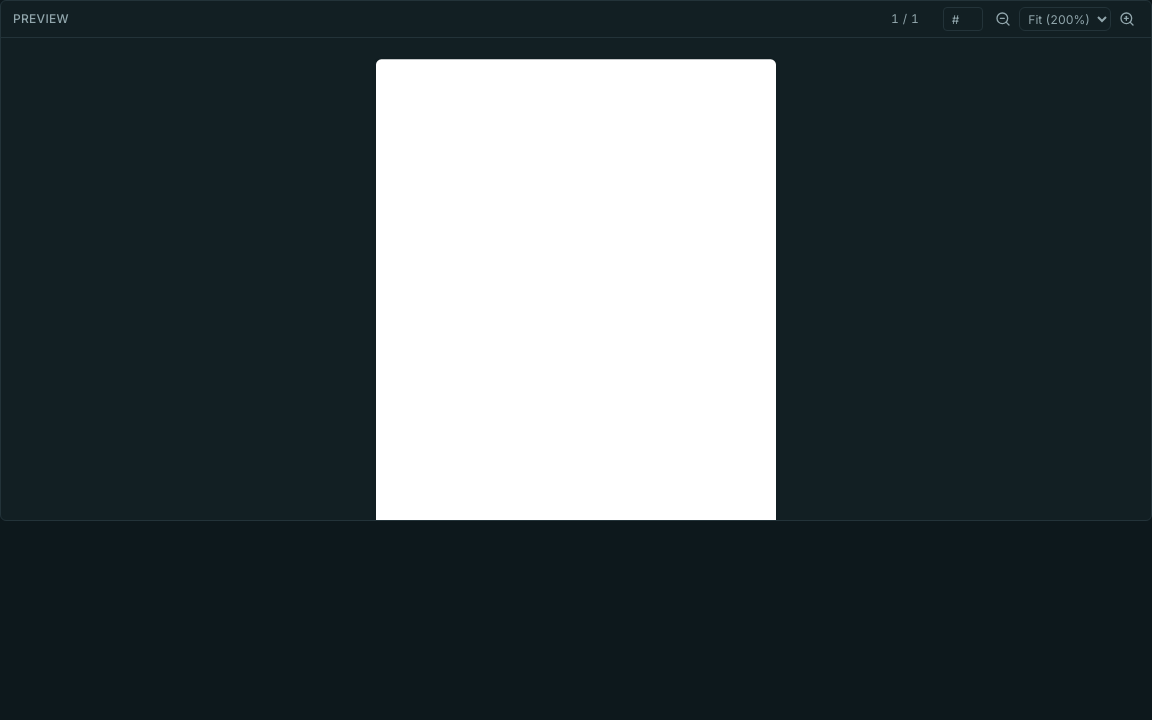
Test: PdfPreviewPanel › zooms in and out to an explicit scale and re-renders each time
Zooming in leaves fit mode for an explicit factor one step above the on-screen scale (2 * 1.25).
What coordinates should you click on to do the following:
click the button with test id "pdf-zoom-in"
I would click on:
 (1127, 19)
Its box is [1115,7,1139,31].
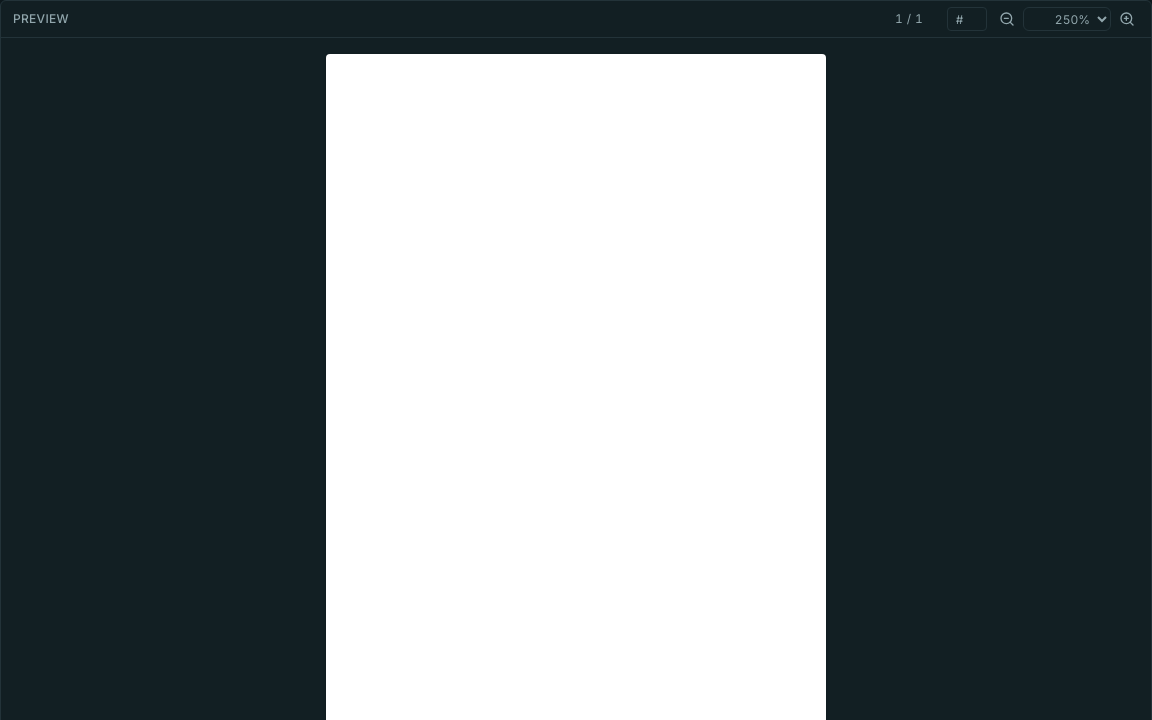
expect the dropdown with test id "pdf-zoom-preset" shows "250%": met, box [1023,7,1111,31]
What coordinates should you click on to do the following:
click the button with test id "pdf-zoom-out"
I would click on:
 (1007, 19)
Its box is [995,7,1019,31].
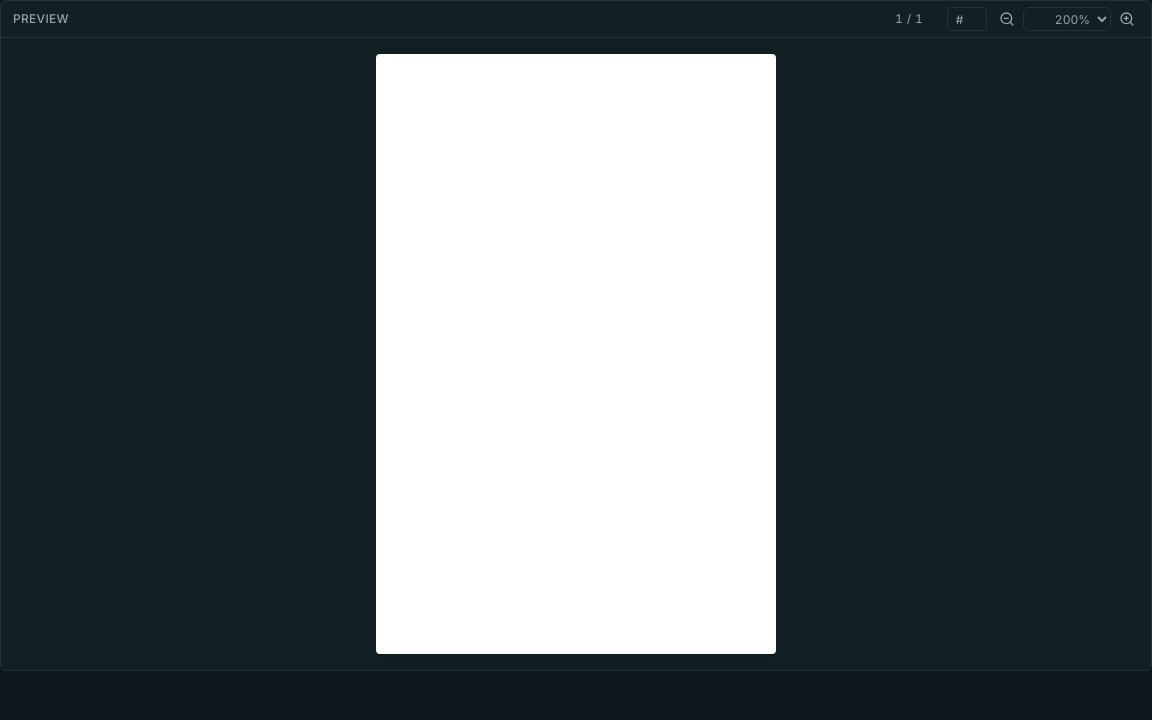
expect the dropdown with test id "pdf-zoom-preset" shows "200%": met, box [1023,7,1111,31]
